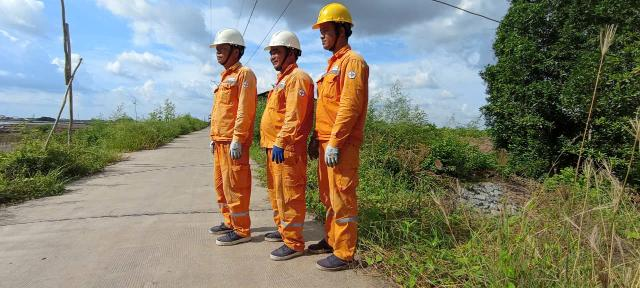gloves: (305, 129, 322, 160), (325, 141, 343, 170), (225, 137, 245, 163), (271, 141, 289, 165), (208, 139, 219, 155)
helmet: (312, 3, 356, 30), (263, 29, 305, 54), (208, 28, 247, 50)
shoes: (313, 250, 359, 275), (263, 244, 305, 262), (306, 237, 335, 257), (215, 231, 255, 245), (260, 225, 295, 241), (197, 223, 232, 233)
